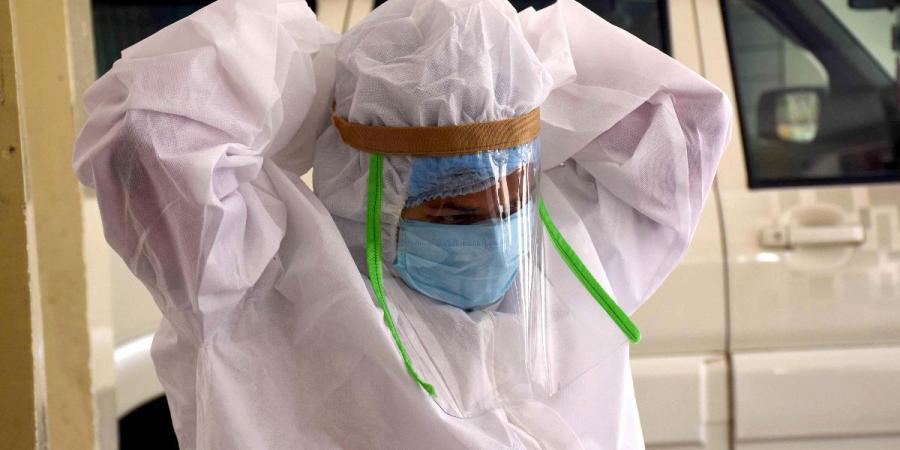Coverall: (72, 1, 732, 448)
Face_Shield: (361, 114, 564, 422)
with_mask: (394, 182, 533, 308)
